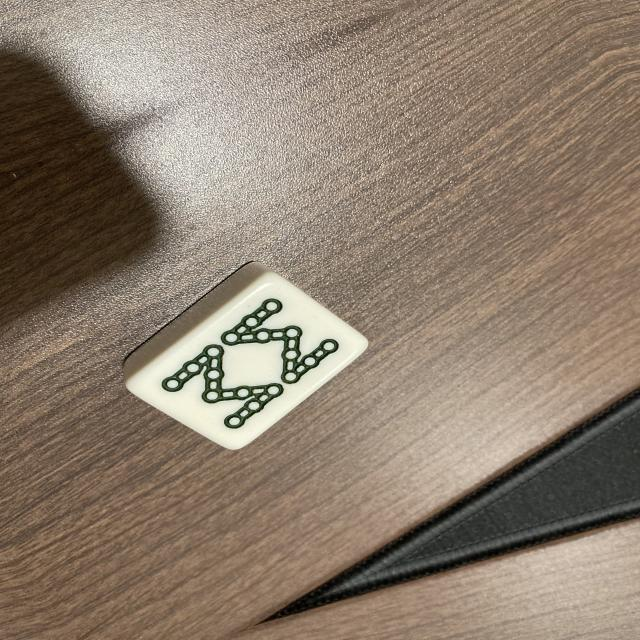s8: (129, 268, 361, 458)
